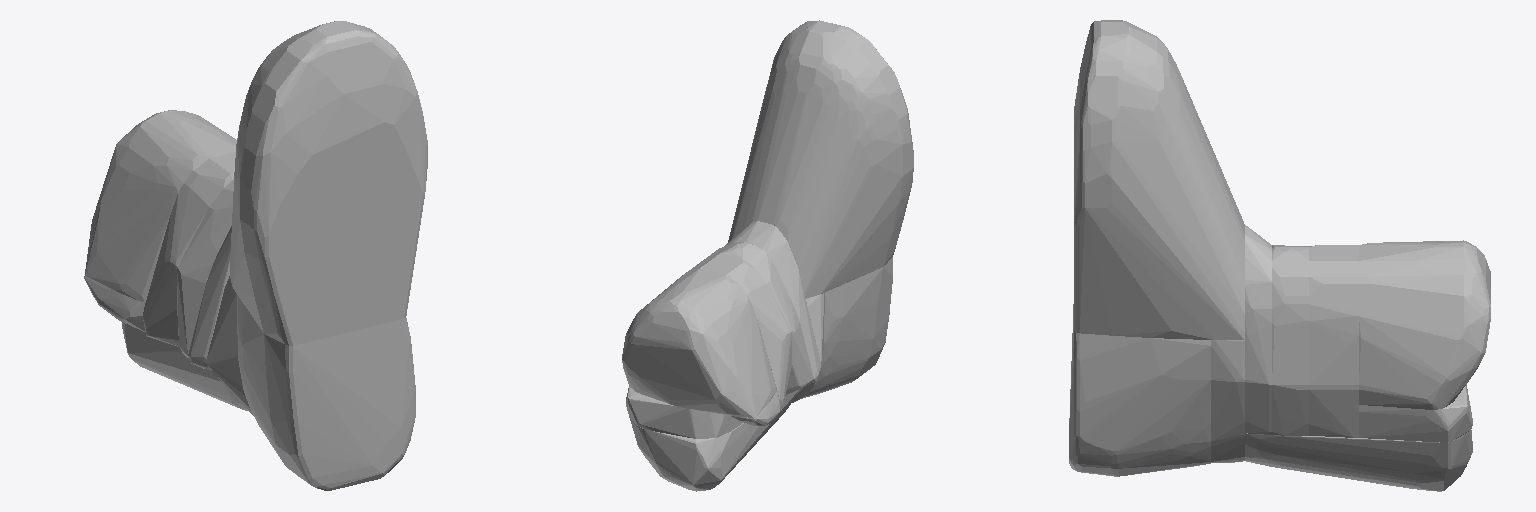
The robot description file, URDF, robot "root":
<robot name="root">
  <link name="link_coacd_convex_piece_0">
    <inertial>
      <origin xyz="0 0 0" rpy="0 0 0"/>
      <inertia ixx="1.88E-02" ixy="-1.20E-03" ixz="-8.32E-04" iyy="4.30E-03" iyz="-7.94E-03" izz="1.54E-02"/>
    </inertial>
    <visual>
      <origin xyz="0 0 0" rpy="0 0 0"/>
      <geometry>
        <mesh filename="coacd_convex_piece_0.obj" scale="1.0000E+00 1.0000E+00 1.0000E+00"/>
      </geometry>
      <material name="">
        <color rgba="7.50E-01 7.50E-01 7.50E-01 1"/>
      </material>
    </visual>
    <collision>
      <origin xyz="0 0 0" rpy="0 0 0"/>
      <geometry>
        <mesh filename="coacd_convex_piece_0.obj" scale="1.0000E+00 1.0000E+00 1.0000E+00"/>
      </geometry>
    </collision>
  </link>
  <link name="link_coacd_convex_piece_1">
    <inertial>
      <origin xyz="0 0 0" rpy="0 0 0"/>
      <inertia ixx="4.46E-02" ixy="6.01E-04" ixz="-8.61E-04" iyy="3.43E-02" iyz="-2.05E-02" izz="1.69E-02"/>
    </inertial>
    <visual>
      <origin xyz="0 0 0" rpy="0 0 0"/>
      <geometry>
        <mesh filename="coacd_convex_piece_1.obj" scale="1.0000E+00 1.0000E+00 1.0000E+00"/>
      </geometry>
      <material name="">
        <color rgba="7.50E-01 7.50E-01 7.50E-01 1"/>
      </material>
    </visual>
    <collision>
      <origin xyz="0 0 0" rpy="0 0 0"/>
      <geometry>
        <mesh filename="coacd_convex_piece_1.obj" scale="1.0000E+00 1.0000E+00 1.0000E+00"/>
      </geometry>
    </collision>
  </link>
  <joint name="link_coacd_convex_piece_1_joint" type="fixed">
    <origin xyz="0 0 0" rpy="0 0 0"/>
    <parent link="link_coacd_convex_piece_0"/>
    <child link="link_coacd_convex_piece_1"/>
  </joint>
  <link name="link_coacd_convex_piece_2">
    <inertial>
      <origin xyz="0 0 0" rpy="0 0 0"/>
      <inertia ixx="2.92E-03" ixy="-2.01E-04" ixz="4.63E-05" iyy="3.83E-04" iyz="7.80E-04" izz="3.00E-03"/>
    </inertial>
    <visual>
      <origin xyz="0 0 0" rpy="0 0 0"/>
      <geometry>
        <mesh filename="coacd_convex_piece_2.obj" scale="1.0000E+00 1.0000E+00 1.0000E+00"/>
      </geometry>
      <material name="">
        <color rgba="7.50E-01 7.50E-01 7.50E-01 1"/>
      </material>
    </visual>
    <collision>
      <origin xyz="0 0 0" rpy="0 0 0"/>
      <geometry>
        <mesh filename="coacd_convex_piece_2.obj" scale="1.0000E+00 1.0000E+00 1.0000E+00"/>
      </geometry>
    </collision>
  </link>
  <joint name="link_coacd_convex_piece_2_joint" type="fixed">
    <origin xyz="0 0 0" rpy="0 0 0"/>
    <parent link="link_coacd_convex_piece_1"/>
    <child link="link_coacd_convex_piece_2"/>
  </joint>
  <link name="link_coacd_convex_piece_3">
    <inertial>
      <origin xyz="0 0 0" rpy="0 0 0"/>
      <inertia ixx="3.04E-02" ixy="-5.47E-04" ixz="4.55E-04" iyy="1.67E-02" iyz="1.38E-02" izz="1.60E-02"/>
    </inertial>
    <visual>
      <origin xyz="0 0 0" rpy="0 0 0"/>
      <geometry>
        <mesh filename="coacd_convex_piece_3.obj" scale="1.0000E+00 1.0000E+00 1.0000E+00"/>
      </geometry>
      <material name="">
        <color rgba="7.50E-01 7.50E-01 7.50E-01 1"/>
      </material>
    </visual>
    <collision>
      <origin xyz="0 0 0" rpy="0 0 0"/>
      <geometry>
        <mesh filename="coacd_convex_piece_3.obj" scale="1.0000E+00 1.0000E+00 1.0000E+00"/>
      </geometry>
    </collision>
  </link>
  <joint name="link_coacd_convex_piece_3_joint" type="fixed">
    <origin xyz="0 0 0" rpy="0 0 0"/>
    <parent link="link_coacd_convex_piece_2"/>
    <child link="link_coacd_convex_piece_3"/>
  </joint>
  <link name="link_coacd_convex_piece_4">
    <inertial>
      <origin xyz="0 0 0" rpy="0 0 0"/>
      <inertia ixx="1.36E-02" ixy="-2.92E-04" ixz="-1.66E-03" iyy="1.27E-02" iyz="-6.89E-03" izz="3.14E-03"/>
    </inertial>
    <visual>
      <origin xyz="0 0 0" rpy="0 0 0"/>
      <geometry>
        <mesh filename="coacd_convex_piece_4.obj" scale="1.0000E+00 1.0000E+00 1.0000E+00"/>
      </geometry>
      <material name="">
        <color rgba="7.50E-01 7.50E-01 7.50E-01 1"/>
      </material>
    </visual>
    <collision>
      <origin xyz="0 0 0" rpy="0 0 0"/>
      <geometry>
        <mesh filename="coacd_convex_piece_4.obj" scale="1.0000E+00 1.0000E+00 1.0000E+00"/>
      </geometry>
    </collision>
  </link>
  <joint name="link_coacd_convex_piece_4_joint" type="fixed">
    <origin xyz="0 0 0" rpy="0 0 0"/>
    <parent link="link_coacd_convex_piece_3"/>
    <child link="link_coacd_convex_piece_4"/>
  </joint>
  <link name="link_coacd_convex_piece_5">
    <inertial>
      <origin xyz="0 0 0" rpy="0 0 0"/>
      <inertia ixx="9.50E-04" ixy="-1.01E-04" ixz="-1.33E-05" iyy="3.37E-05" iyz="-6.09E-05" izz="1.44E-03"/>
    </inertial>
    <visual>
      <origin xyz="0 0 0" rpy="0 0 0"/>
      <geometry>
        <mesh filename="coacd_convex_piece_5.obj" scale="1.0000E+00 1.0000E+00 1.0000E+00"/>
      </geometry>
      <material name="">
        <color rgba="7.50E-01 7.50E-01 7.50E-01 1"/>
      </material>
    </visual>
    <collision>
      <origin xyz="0 0 0" rpy="0 0 0"/>
      <geometry>
        <mesh filename="coacd_convex_piece_5.obj" scale="1.0000E+00 1.0000E+00 1.0000E+00"/>
      </geometry>
    </collision>
  </link>
  <joint name="link_coacd_convex_piece_5_joint" type="fixed">
    <origin xyz="0 0 0" rpy="0 0 0"/>
    <parent link="link_coacd_convex_piece_4"/>
    <child link="link_coacd_convex_piece_5"/>
  </joint>
  <link name="link_coacd_convex_piece_6">
    <inertial>
      <origin xyz="0 0 0" rpy="0 0 0"/>
      <inertia ixx="5.07E-03" ixy="-5.27E-04" ixz="-6.14E-04" iyy="2.62E-03" iyz="-3.06E-03" izz="3.04E-03"/>
    </inertial>
    <visual>
      <origin xyz="0 0 0" rpy="0 0 0"/>
      <geometry>
        <mesh filename="coacd_convex_piece_6.obj" scale="1.0000E+00 1.0000E+00 1.0000E+00"/>
      </geometry>
      <material name="">
        <color rgba="7.50E-01 7.50E-01 7.50E-01 1"/>
      </material>
    </visual>
    <collision>
      <origin xyz="0 0 0" rpy="0 0 0"/>
      <geometry>
        <mesh filename="coacd_convex_piece_6.obj" scale="1.0000E+00 1.0000E+00 1.0000E+00"/>
      </geometry>
    </collision>
  </link>
  <joint name="link_coacd_convex_piece_6_joint" type="fixed">
    <origin xyz="0 0 0" rpy="0 0 0"/>
    <parent link="link_coacd_convex_piece_5"/>
    <child link="link_coacd_convex_piece_6"/>
  </joint>
  <link name="link_coacd_convex_piece_7">
    <inertial>
      <origin xyz="0 0 0" rpy="0 0 0"/>
      <inertia ixx="6.12E-04" ixy="1.90E-04" ixz="1.44E-04" iyy="3.39E-04" iyz="-3.83E-04" izz="4.34E-04"/>
    </inertial>
    <visual>
      <origin xyz="0 0 0" rpy="0 0 0"/>
      <geometry>
        <mesh filename="coacd_convex_piece_7.obj" scale="1.0000E+00 1.0000E+00 1.0000E+00"/>
      </geometry>
      <material name="">
        <color rgba="7.50E-01 7.50E-01 7.50E-01 1"/>
      </material>
    </visual>
    <collision>
      <origin xyz="0 0 0" rpy="0 0 0"/>
      <geometry>
        <mesh filename="coacd_convex_piece_7.obj" scale="1.0000E+00 1.0000E+00 1.0000E+00"/>
      </geometry>
    </collision>
  </link>
  <joint name="link_coacd_convex_piece_7_joint" type="fixed">
    <origin xyz="0 0 0" rpy="0 0 0"/>
    <parent link="link_coacd_convex_piece_6"/>
    <child link="link_coacd_convex_piece_7"/>
  </joint>
  <link name="link_coacd_convex_piece_8">
    <inertial>
      <origin xyz="0 0 0" rpy="0 0 0"/>
      <inertia ixx="2.64E-03" ixy="-2.20E-04" ixz="-3.99E-04" iyy="9.29E-04" iyz="-2.13E-03" izz="2.81E-03"/>
    </inertial>
    <visual>
      <origin xyz="0 0 0" rpy="0 0 0"/>
      <geometry>
        <mesh filename="coacd_convex_piece_8.obj" scale="1.0000E+00 1.0000E+00 1.0000E+00"/>
      </geometry>
      <material name="">
        <color rgba="7.50E-01 7.50E-01 7.50E-01 1"/>
      </material>
    </visual>
    <collision>
      <origin xyz="0 0 0" rpy="0 0 0"/>
      <geometry>
        <mesh filename="coacd_convex_piece_8.obj" scale="1.0000E+00 1.0000E+00 1.0000E+00"/>
      </geometry>
    </collision>
  </link>
  <joint name="link_coacd_convex_piece_8_joint" type="fixed">
    <origin xyz="0 0 0" rpy="0 0 0"/>
    <parent link="link_coacd_convex_piece_7"/>
    <child link="link_coacd_convex_piece_8"/>
  </joint>
  <link name="link_coacd_convex_piece_9">
    <inertial>
      <origin xyz="0 0 0" rpy="0 0 0"/>
      <inertia ixx="1.28E-03" ixy="-1.62E-04" ixz="-1.36E-04" iyy="6.93E-06" iyz="-7.01E-04" izz="2.05E-03"/>
    </inertial>
    <visual>
      <origin xyz="0 0 0" rpy="0 0 0"/>
      <geometry>
        <mesh filename="coacd_convex_piece_9.obj" scale="1.0000E+00 1.0000E+00 1.0000E+00"/>
      </geometry>
      <material name="">
        <color rgba="7.50E-01 7.50E-01 7.50E-01 1"/>
      </material>
    </visual>
    <collision>
      <origin xyz="0 0 0" rpy="0 0 0"/>
      <geometry>
        <mesh filename="coacd_convex_piece_9.obj" scale="1.0000E+00 1.0000E+00 1.0000E+00"/>
      </geometry>
    </collision>
  </link>
  <joint name="link_coacd_convex_piece_9_joint" type="fixed">
    <origin xyz="0 0 0" rpy="0 0 0"/>
    <parent link="link_coacd_convex_piece_8"/>
    <child link="link_coacd_convex_piece_9"/>
  </joint>
</robot>

--- Facts derived from the render (not from the file) ---
Views: 3 orthographic renders of the robot side by side, from view 1: azimuth 30°, elevation 25°; view 2: azimuth 150°, elevation 25°; view 3: azimuth 270°, elevation 25°.
Model root with 10 links and 9 joints (9 fixed), rooted at link_coacd_convex_piece_0, posed all joints at 0.
Links seen in each view (by area): view 1: link_coacd_convex_piece_1, link_coacd_convex_piece_3, link_coacd_convex_piece_4, link_coacd_convex_piece_8, link_coacd_convex_piece_9, link_coacd_convex_piece_0, link_coacd_convex_piece_2, link_coacd_convex_piece_5, link_coacd_convex_piece_7; view 2: link_coacd_convex_piece_1, link_coacd_convex_piece_4, link_coacd_convex_piece_3, link_coacd_convex_piece_0, link_coacd_convex_piece_8, link_coacd_convex_piece_6, link_coacd_convex_piece_5, link_coacd_convex_piece_9, link_coacd_convex_piece_2, link_coacd_convex_piece_7; view 3: link_coacd_convex_piece_1, link_coacd_convex_piece_4, link_coacd_convex_piece_3, link_coacd_convex_piece_8, link_coacd_convex_piece_0, link_coacd_convex_piece_9, link_coacd_convex_piece_5, link_coacd_convex_piece_2, link_coacd_convex_piece_6.
Boxes of the visible links, box(x1,y1,x2,y2) form: link_coacd_convex_piece_1: box(230, 21, 427, 345); link_coacd_convex_piece_3: box(237, 295, 415, 490); link_coacd_convex_piece_4: box(85, 110, 236, 302); link_coacd_convex_piece_8: box(142, 152, 235, 346); link_coacd_convex_piece_9: box(177, 180, 233, 357); link_coacd_convex_piece_0: box(122, 322, 248, 410); link_coacd_convex_piece_2: box(207, 276, 253, 415); link_coacd_convex_piece_5: box(188, 226, 231, 370); link_coacd_convex_piece_7: box(84, 276, 144, 331); link_coacd_convex_piece_1: box(728, 20, 913, 298); link_coacd_convex_piece_4: box(622, 268, 776, 417); link_coacd_convex_piece_3: box(802, 257, 892, 398); link_coacd_convex_piece_0: box(630, 390, 798, 491); link_coacd_convex_piece_8: box(688, 254, 791, 411); link_coacd_convex_piece_6: box(626, 387, 743, 438); link_coacd_convex_piece_5: box(725, 221, 820, 382); link_coacd_convex_piece_9: box(708, 242, 813, 395); link_coacd_convex_piece_2: box(792, 293, 824, 402); link_coacd_convex_piece_7: box(731, 391, 779, 425); link_coacd_convex_piece_1: box(1074, 20, 1244, 339); link_coacd_convex_piece_4: box(1359, 240, 1490, 409); link_coacd_convex_piece_3: box(1069, 304, 1210, 476); link_coacd_convex_piece_8: box(1309, 245, 1358, 437); link_coacd_convex_piece_0: box(1245, 430, 1472, 491); link_coacd_convex_piece_9: box(1272, 245, 1308, 435); link_coacd_convex_piece_5: box(1245, 225, 1271, 434); link_coacd_convex_piece_2: box(1211, 340, 1244, 462); link_coacd_convex_piece_6: box(1359, 384, 1472, 442).
Size in the robot's own frame: 0.6524 by 1.34 by 1.58 metres.
10 mesh visuals loaded from 10 distinct referenced files (10 OBJ).
